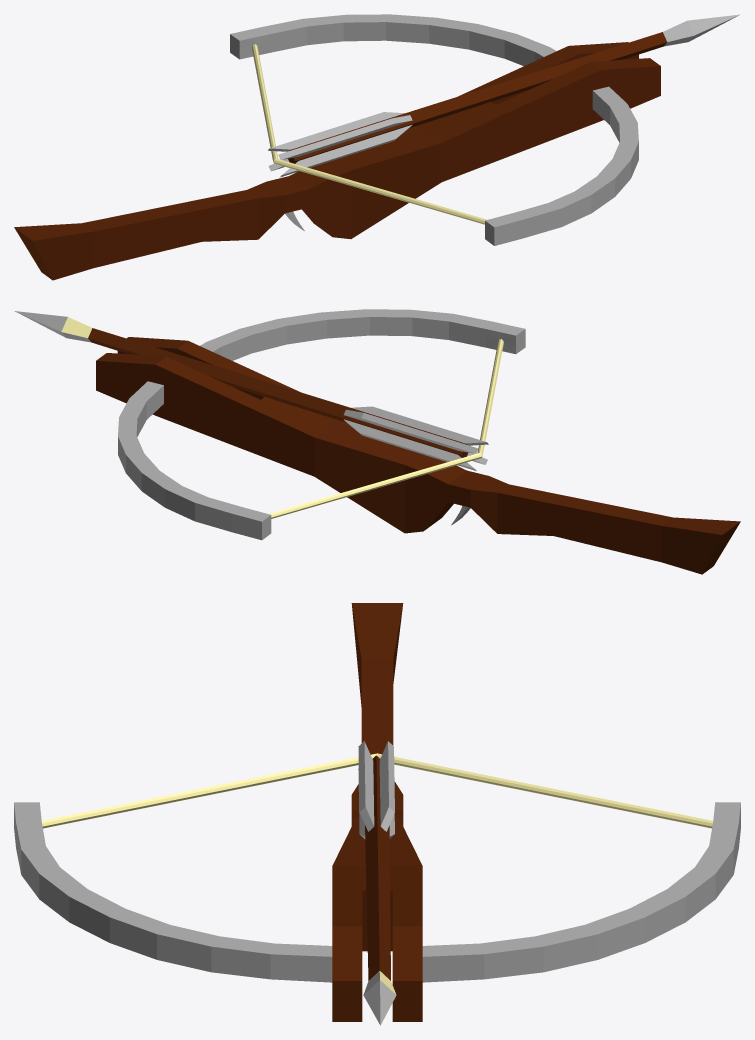
File: xbow_loaded.fbx
3 views of the same model, one above another, from view 1: azimuth 30°, elevation 25°; view 2: azimuth 150°, elevation 25°; view 3: azimuth 270°, elevation 25° (orthographic). The views are drawn at different scales.
Visible parts, largest first — view 1: xbow_loaded_with_arrow; view 2: xbow_loaded_with_arrow; view 3: xbow_loaded_with_arrow.
Part boxes in pixels (<box>): xbow_loaded_with_arrow: <box>14,14,740,280</box>; xbow_loaded_with_arrow: <box>14,309,740,574</box>; xbow_loaded_with_arrow: <box>14,603,740,1025</box>.
Size of the model in its own units: 5054 by 851 by 3219.
